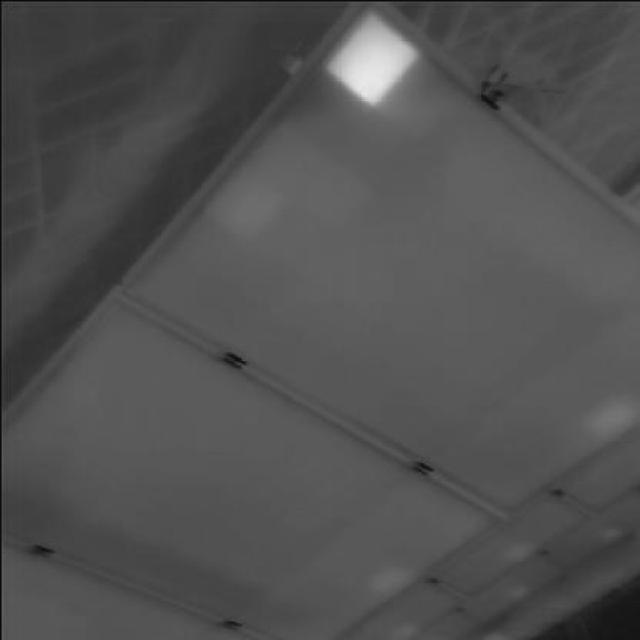hotspot: (318, 12, 420, 110)
